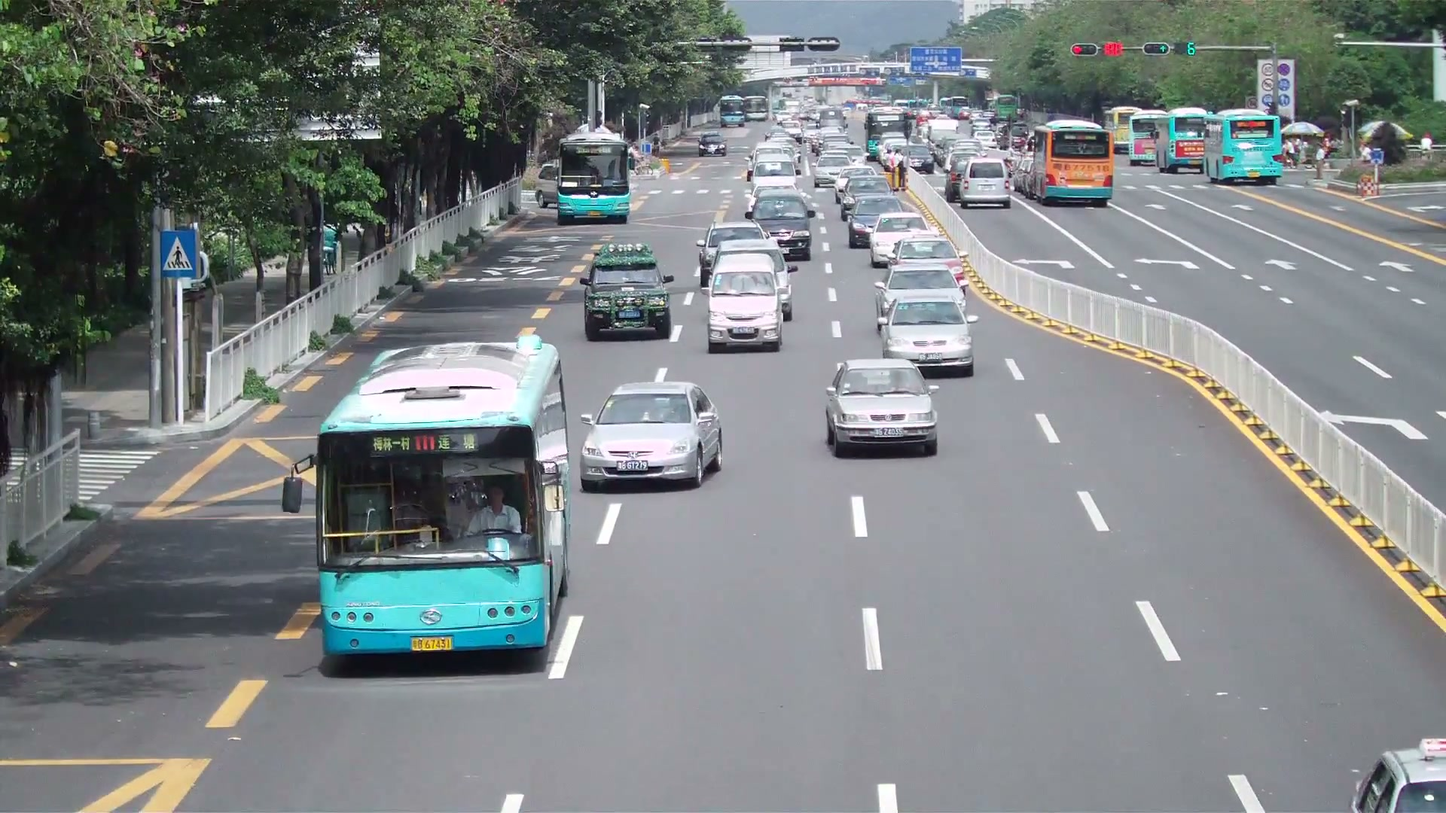bus: (280, 335, 571, 659), (556, 126, 631, 223), (1035, 117, 1114, 206), (1205, 108, 1284, 184), (1129, 107, 1212, 171), (1158, 107, 1214, 173), (1102, 106, 1159, 166), (1125, 107, 1171, 170), (1103, 106, 1142, 166)
car: (576, 379, 721, 492), (823, 356, 940, 458), (878, 283, 975, 378), (581, 240, 672, 340), (705, 256, 783, 353), (1351, 740, 1445, 812), (750, 190, 814, 261), (867, 214, 945, 270), (846, 196, 914, 247), (697, 134, 727, 156)
pedestrian: (461, 478, 524, 538), (1358, 141, 1383, 195)
truck: (1205, 108, 1285, 183), (958, 155, 1014, 210)
